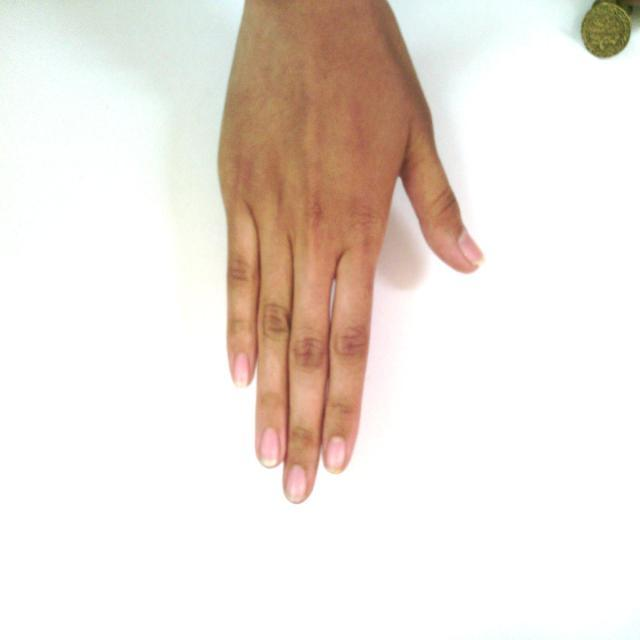Fingernail: (460, 231, 484, 263), (260, 428, 280, 465), (325, 437, 346, 472), (287, 466, 307, 502), (235, 354, 249, 387)
